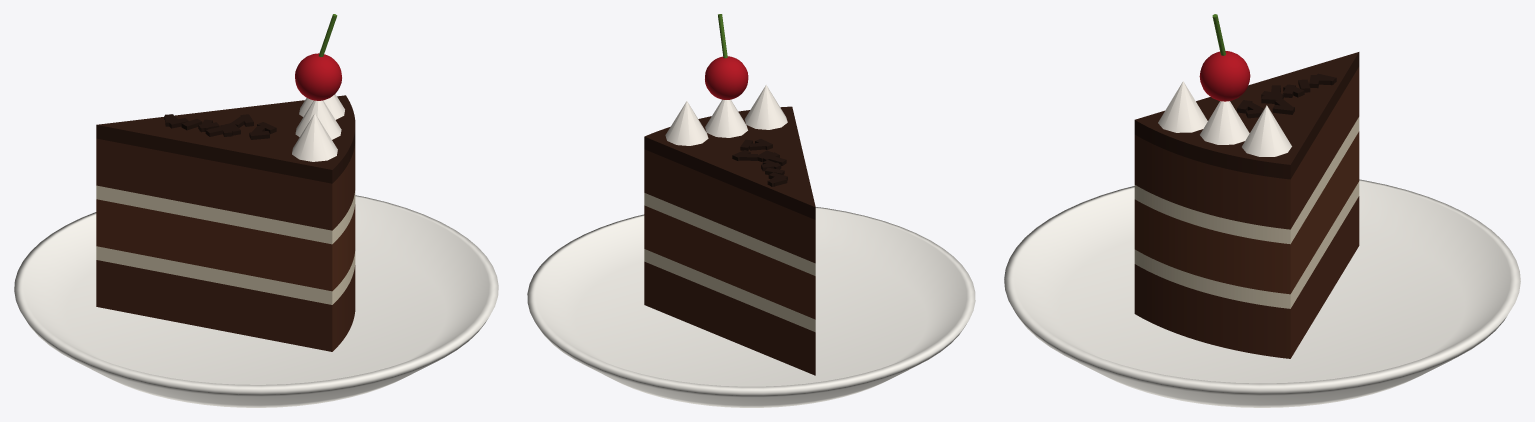
File: bolo-chocolate.glb
3 renders of one model, left to right at view 1: azimuth 30°, elevation 25°; view 2: azimuth 150°, elevation 25°; view 3: azimuth 270°, elevation 25°, orthographic. The views are drawn at different scales.
Visible parts, largest first — view 1: bolo-chocolate, prato, chantili, raspas; view 2: prato, bolo-chocolate, chantili, raspas; view 3: prato, bolo-chocolate, chantili, raspas.
Boxes of the visible parts, left/top/right/bottom form: bolo-chocolate: left=96, top=14, right=355, bottom=351; prato: left=14, top=195, right=498, bottom=407; chantili: left=292, top=94, right=344, bottom=161; raspas: left=164, top=114, right=276, bottom=139; prato: left=527, top=207, right=975, bottom=407; bolo-chocolate: left=644, top=14, right=815, bottom=375; chantili: left=665, top=85, right=787, bottom=145; raspas: left=732, top=139, right=787, bottom=186; prato: left=1004, top=179, right=1520, bottom=407; bolo-chocolate: left=1134, top=14, right=1359, bottom=358; chantili: left=1158, top=81, right=1291, bottom=156; raspas: left=1237, top=73, right=1336, bottom=118.
Bounding box in the file's own units: 0.2244 × 0.1612 × 0.2244.
